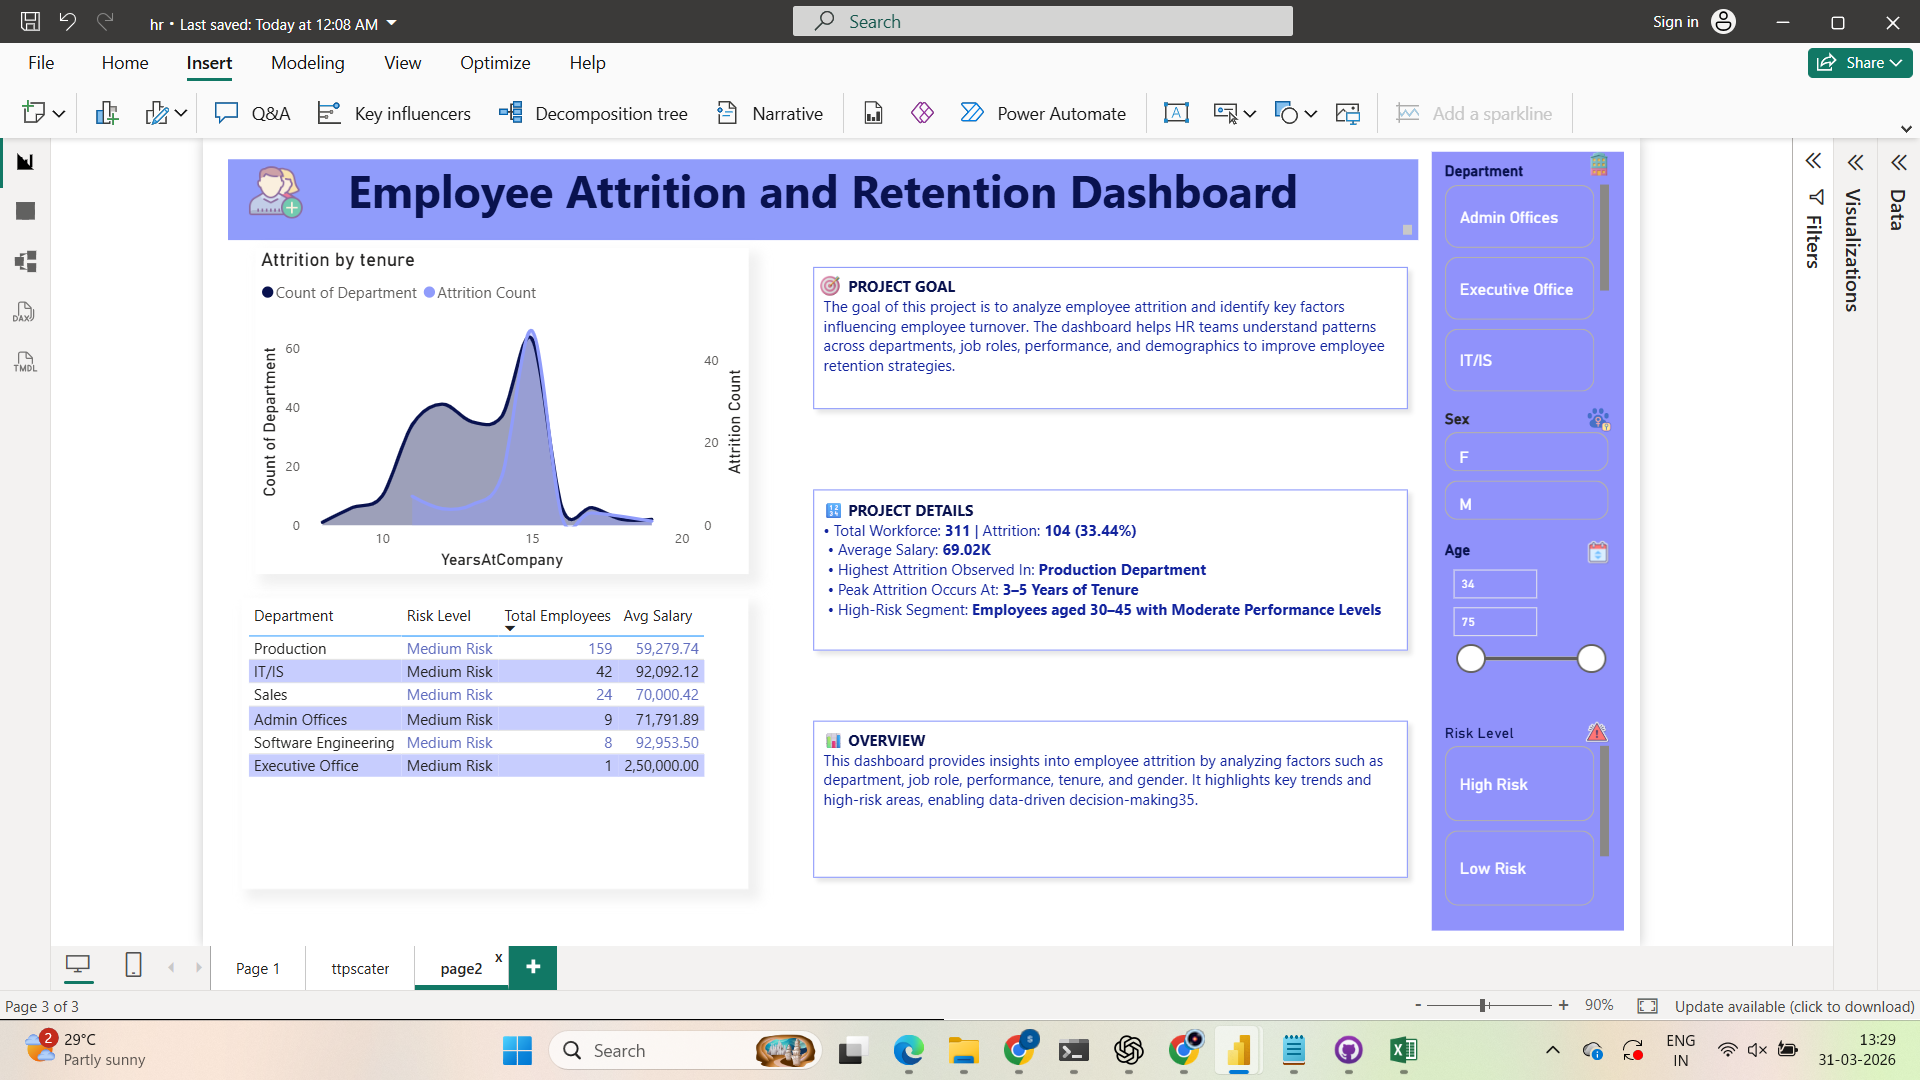

The dashboard page shown, as its layout file describes it:
{"tool":"powerbi","page":{"name":"page2","canvas":[1280,720],"ordinal":2},"visuals":[{"type":"textbox","box":[21.7,12.1,428.3,82],"z":0},{"type":"textbox","box":[1094.2,12.1,171.3,693.7],"z":1000},{"type":"textbox","title":"Employee Attrition and Retention Dashboard","box":[22.3,18.9,1059.7,72.4],"z":2000},{"type":"lineChart","title":"Attrition by tenure","fields":{"Y":["CountNonNull(HRDataset_v14.Department)"],"Category":["HRDataset_v14.YearsAtCompany"],"Y2":["HRDataset_v14.Attrition Count"]},"box":[46.5,97.7,439.5,290.7],"z":3000},{"type":"tableEx","fields":{"Values":["HRDataset_v14.Department","HRDataset_v14.Risk Level","HRDataset_v14.Total Employees","HRDataset_v14.Avg Salary"]},"box":[34.9,409.3,451.2,259.3],"z":4000},{"type":"advancedSlicerVisual","fields":{"Values":["HRDataset_v14.Department"]},"box":[1101.5,21.7,156.8,211.1],"z":5000},{"type":"advancedSlicerVisual","fields":{"Values":["HRDataset_v14.Sex"]},"box":[1101.5,242.5,156.8,103.8],"z":6000},{"type":"slicer","title":"Age","fields":{"Values":["HRDataset_v14.Age"]},"box":[1101.5,359.5,156.8,153.2],"z":7000},{"type":"advancedSlicerVisual","fields":{"Values":["HRDataset_v14.Risk Level"]},"box":[1101.5,522.4,156.8,167.7],"z":8000},{"type":"shape","box":[534.5,106.2,547.7,144.8],"z":9000},{"type":"shape","box":[534.5,304,547.7,161.7],"z":10000},{"type":"shape","box":[534.5,510.3,547.7,158],"z":11000},{"type":"image","box":[1223.3,512.8,36,31.4],"z":12000},{"type":"image","box":[1226.7,353.5,31.4,31.4],"z":13000},{"type":"image","box":[1227.9,233.7,31.4,34.9],"z":14000},{"type":"image","box":[1216.3,8.1,52.3,30.2],"z":15000},{"type":"textbox","box":[547.7,317.3,520,127.9],"z":16000},{"type":"textbox","box":[547.7,522.4,520,130.3],"z":17000},{"type":"textbox","box":[547.7,118.2,520,98.9],"z":18000},{"type":"image","box":[534.5,118.2,48.3,27.7],"z":19000},{"type":"image","box":[34.5,18.9,60.1,57.9],"z":19001}]}

Visuals, with their boxes on the page's 1280x720 design canvas (x1, y1, x2, y2). These are canvas units, not pixel positions in the 1920x1080 screenshot, which may show the page scaled, cropped or inside an application window:
textbox: rect(22, 12, 450, 94)
textbox: rect(1094, 12, 1266, 706)
"Employee Attrition and Retention Dashboard" textbox: rect(22, 19, 1082, 91)
"Attrition by tenure" lineChart: rect(46, 98, 486, 388)
tableEx - HRDataset_v14.Department x HRDataset_v14.Risk Level: rect(35, 409, 486, 669)
advancedSlicerVisual - HRDataset_v14.Department: rect(1102, 22, 1258, 233)
advancedSlicerVisual - HRDataset_v14.Sex: rect(1102, 242, 1258, 346)
"Age" slicer: rect(1102, 360, 1258, 513)
advancedSlicerVisual - HRDataset_v14.Risk Level: rect(1102, 522, 1258, 690)
shape: rect(534, 106, 1082, 251)
shape: rect(534, 304, 1082, 466)
shape: rect(534, 510, 1082, 668)
image: rect(1223, 513, 1259, 544)
image: rect(1227, 354, 1258, 385)
image: rect(1228, 234, 1259, 269)
image: rect(1216, 8, 1269, 38)
textbox: rect(548, 317, 1068, 445)
textbox: rect(548, 522, 1068, 653)
textbox: rect(548, 118, 1068, 217)
image: rect(534, 118, 583, 146)
image: rect(34, 19, 95, 77)
